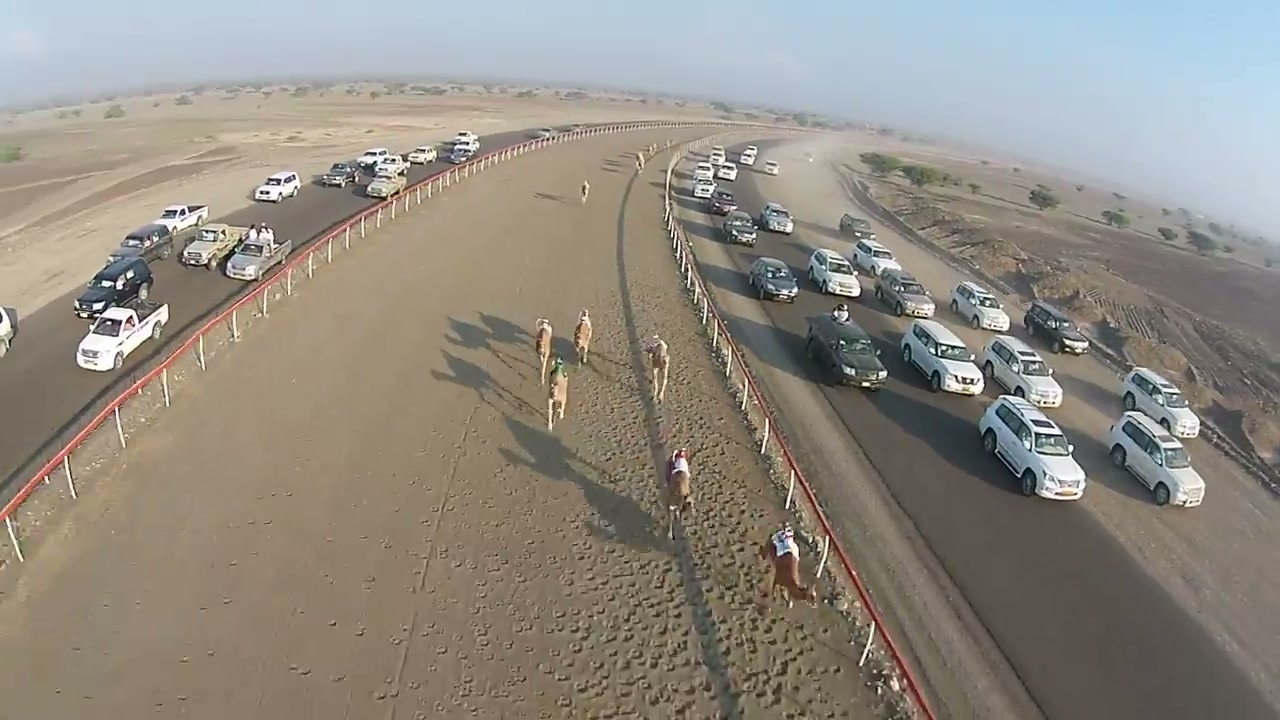animal_footprint: (475, 426, 833, 708)
